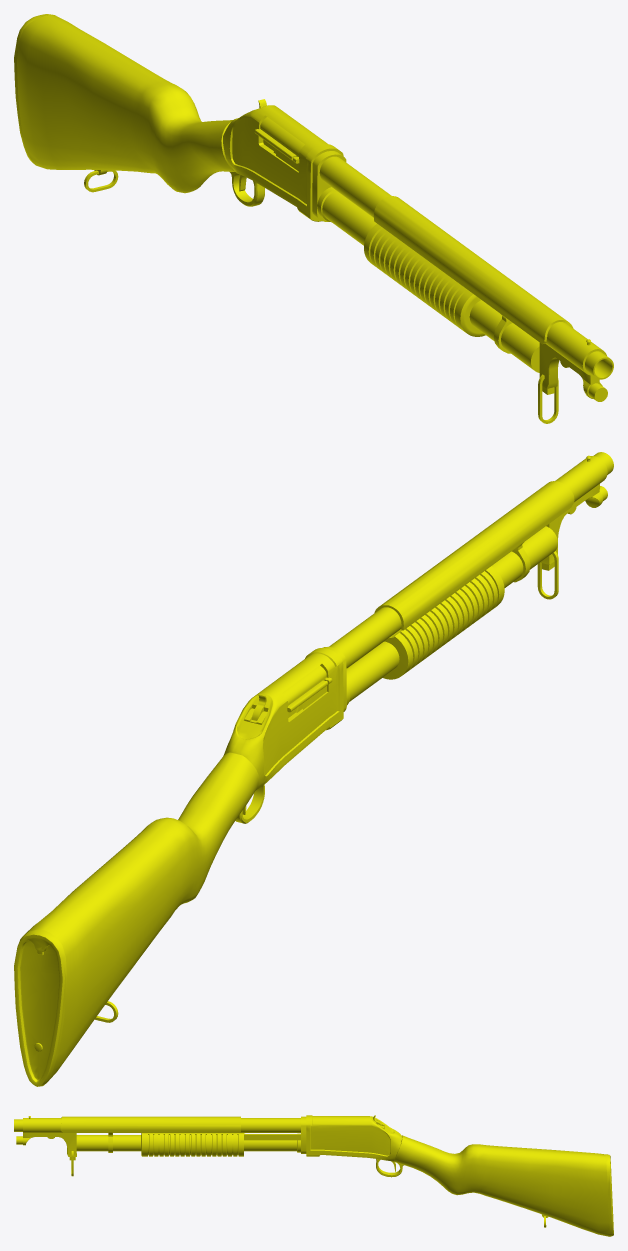
File: TempleIm_JC_Team6_Mesh_Shotgun.fbx
The picture shows the model from 3 angles, top to bottom: view 1: azimuth 30°, elevation 25°; view 2: azimuth 150°, elevation 25°; view 3: azimuth 270°, elevation 25°; orthographic projection. The views are drawn at different scales.
Parts seen in each view (by area): view 1: S_Shotgun; view 2: S_Shotgun; view 3: S_Shotgun.
Boxes of the visible parts, <box> form: S_Shotgun: <box>14,14,613,423</box>; S_Shotgun: <box>14,452,613,1086</box>; S_Shotgun: <box>14,1115,613,1236</box>.
Bounding box in the file's own units: 5.48 × 105 × 23.3.
